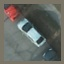car: (16, 14, 47, 49)
